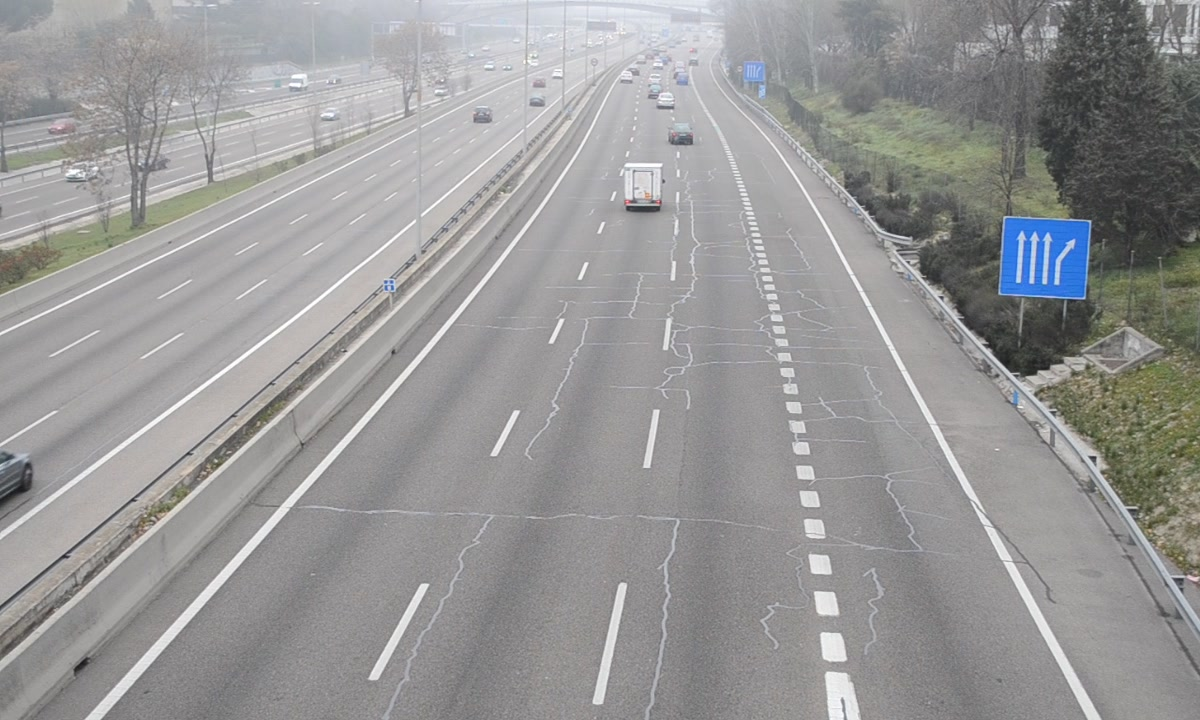car: (668, 121, 694, 146)
small-truck: (621, 163, 665, 208)
